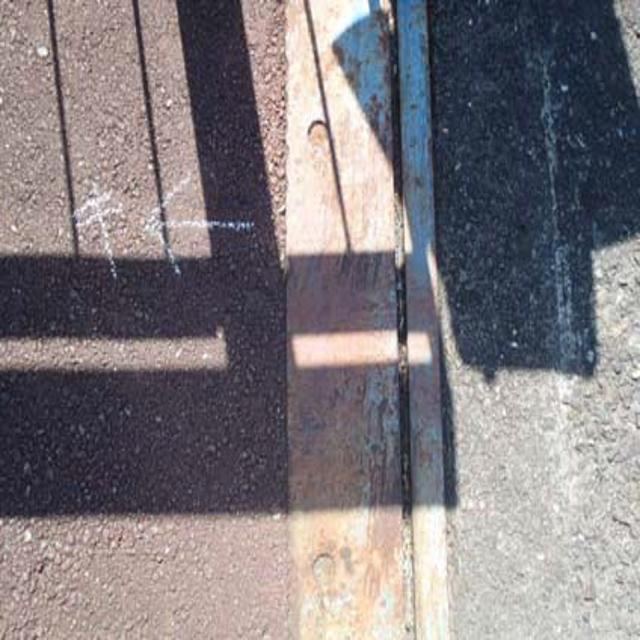corrosion: (280, 133, 431, 623)
